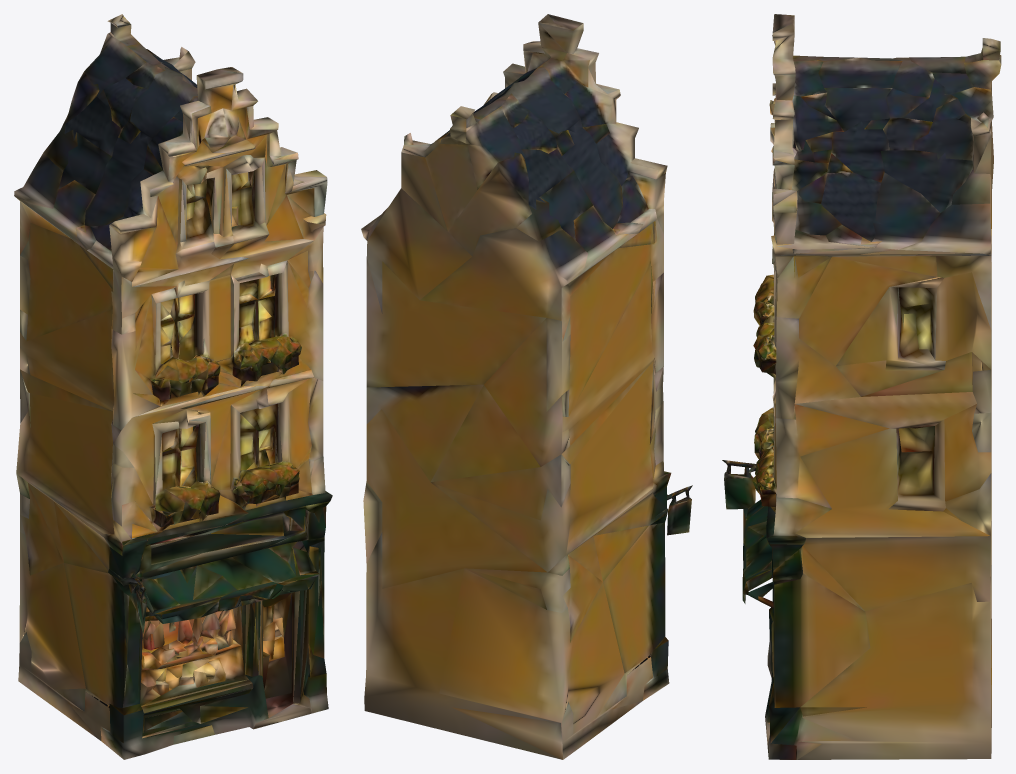
The model's file is getkong-haus16.glb.
The picture shows the model from 3 angles, left to right: view 1: azimuth 30°, elevation 25°; view 2: azimuth 150°, elevation 25°; view 3: azimuth 270°, elevation 25°; orthographic projection. The views are drawn at different scales.
Parts seen in each view (by area): view 1: output_unwrapped; view 2: output_unwrapped; view 3: output_unwrapped.
Boxes of the visible parts, <box> form: output_unwrapped: <box>14,14,332,759</box>; output_unwrapped: <box>361,14,692,759</box>; output_unwrapped: <box>722,14,1001,759</box>.
Size of the model in its own units: 0.6493 by 1.9 by 0.7039.
1 material, 1 textured.
